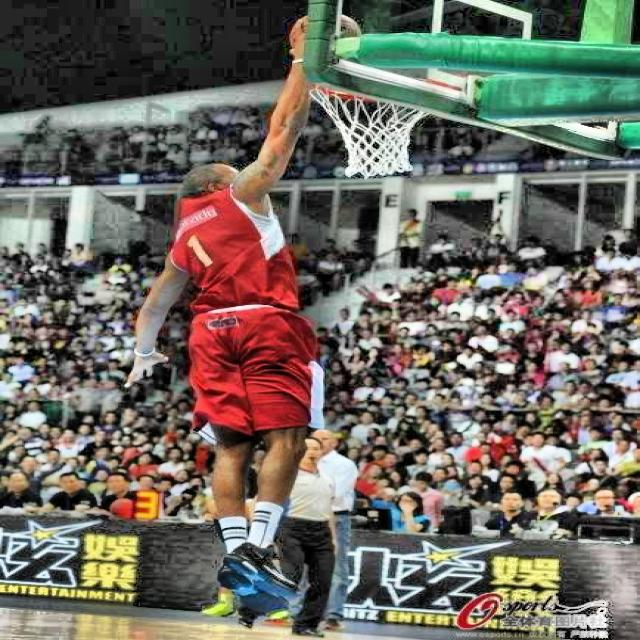rim: (313, 81, 436, 178)
